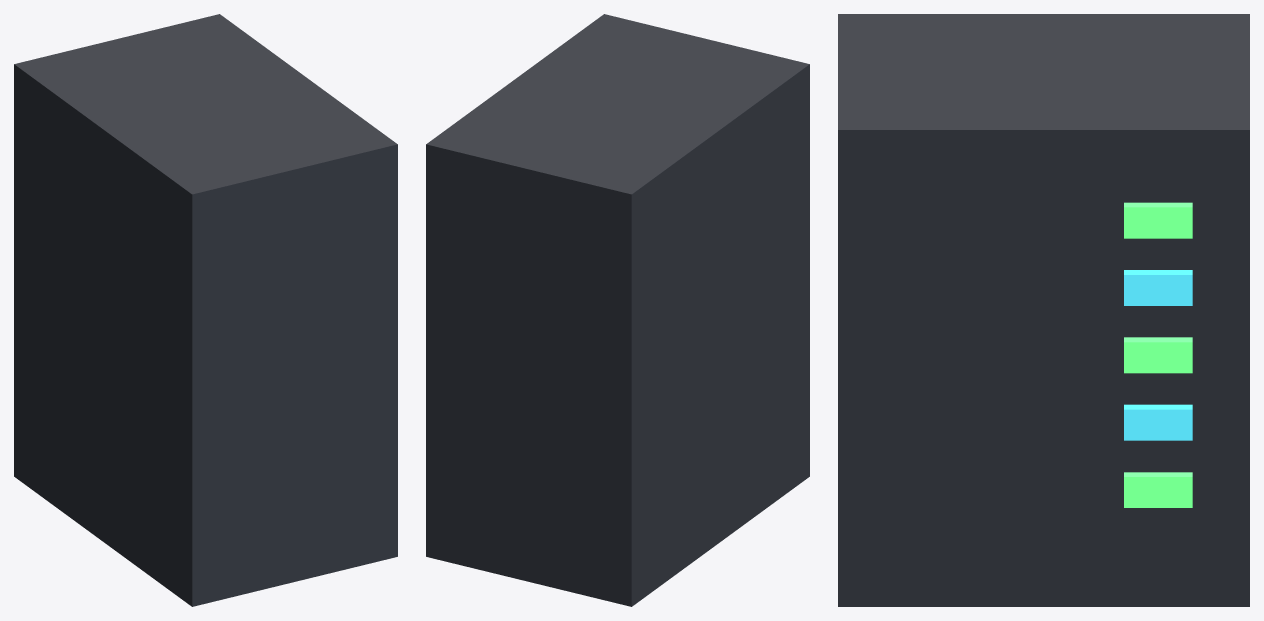
File: item_computer.glb
3 views of the same model, side by side, from view 1: azimuth 30°, elevation 25°; view 2: azimuth 150°, elevation 25°; view 3: azimuth 270°, elevation 25° (orthographic). The views are drawn at different scales.
Visible parts, largest first — view 1: item_computer; view 2: item_computer; view 3: item_computer.
Part boxes in pixels (x1,y1,x2,y2): item_computer: (14, 14, 397, 606); item_computer: (426, 14, 809, 606); item_computer: (838, 14, 1249, 606).
Size of the model in its own units: 0.5 by 0.92 by 0.72.
